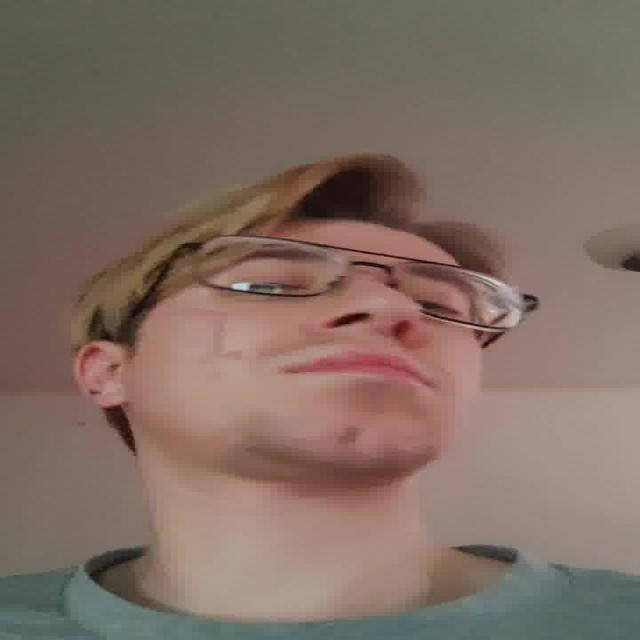earlobe: (84, 391, 131, 410)
eye: (225, 278, 312, 296), (420, 300, 472, 318)
nose: (316, 320, 427, 359)
wholeear: (72, 340, 132, 410)
